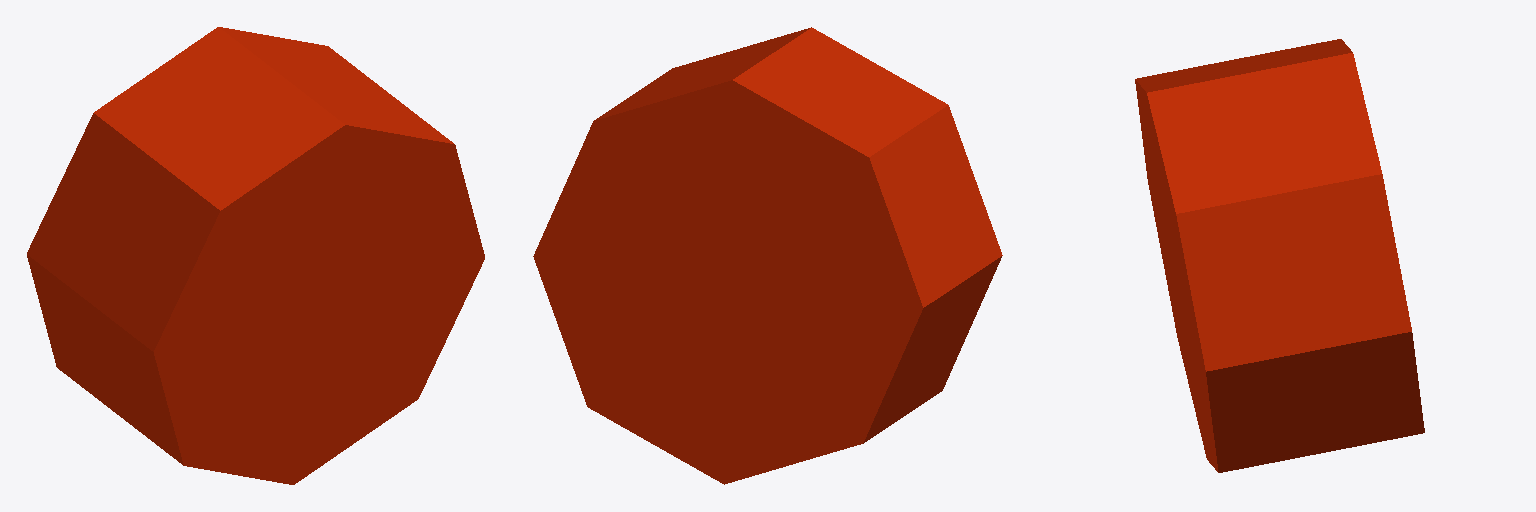
File: rope.obj
The picture shows the model from 3 angles: view 1: azimuth 30°, elevation 25°; view 2: azimuth 150°, elevation 25°; view 3: azimuth 270°, elevation 25°; orthographic projection.
Parts seen in each view (by area): view 1: Cylinder; view 2: Cylinder; view 3: Cylinder.
Boxes of the visible parts, x1=… form: Cylinder: x1=27, y1=27, x2=484, y2=484; Cylinder: x1=533, y1=27, x2=1002, y2=484; Cylinder: x1=1135, y1=39, x2=1424, y2=472.
Size of the model in its own units: 0.422 by 0.4251 by 0.2755.